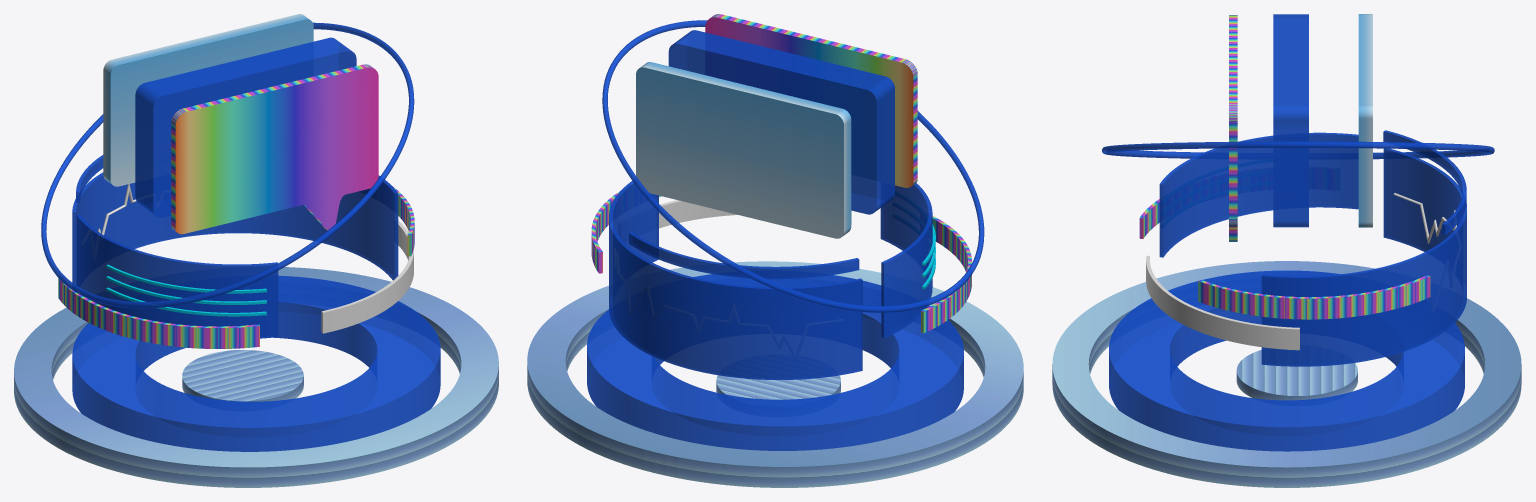
The picture shows the model from 3 angles, left to right: view 1: azimuth 30°, elevation 25°; view 2: azimuth 150°, elevation 25°; view 3: azimuth 270°, elevation 25°; orthographic projection. The views are drawn at different scales.
Visible parts, largest first — view 1: Component, Component2, Component25, Component14, Component40, Component26, Component27, Component3, Component16 (×2), Component30, Component18, Component41 (×3); view 2: Component2, Component, Component27, Component14, Component26, Component25, Component40, Component30, Component16 (×2), Component13, Component3, Component18; view 3: Component2, Component, Component14, Component40, Component26, Component16 (×2), Component3, Component30, Component18, Component27, Component25, Component13.
Part boxes in pixels (x1,y1,x2,y2): Component: (72, 275, 440, 451); Component2: (14, 267, 498, 487); Component25: (171, 64, 378, 234); Component14: (72, 172, 398, 285); Component40: (76, 214, 278, 338); Component26: (135, 37, 356, 217); Component27: (103, 14, 313, 186); Component3: (182, 350, 303, 401); Component16 (×2): (58, 186, 414, 348); Component30: (41, 22, 414, 308); Component18: (321, 220, 413, 333); Component41 (×3): (106, 264, 266, 316); Component2: (527, 261, 1023, 487); Component: (587, 274, 963, 450); Component27: (636, 62, 851, 238); Component14: (609, 181, 862, 379); Component26: (668, 30, 894, 214); Component25: (705, 14, 917, 187); Component40: (880, 183, 932, 338); Component30: (602, 20, 984, 312); Component16 (×2): (591, 191, 971, 333); Component13: (629, 232, 859, 279); Component3: (716, 375, 840, 399); Component18: (659, 200, 851, 228); Component2: (1052, 261, 1521, 487); Component: (1109, 270, 1464, 451); Component14: (1261, 148, 1466, 366); Component40: (1159, 132, 1358, 257); Component26: (1273, 14, 1308, 227); Component16 (×2): (1139, 199, 1430, 319); Component3: (1236, 350, 1357, 400); Component30: (1102, 141, 1494, 159); Component18: (1146, 255, 1299, 350); Component27: (1358, 14, 1372, 227); Component25: (1229, 15, 1237, 241); Component13: (1383, 130, 1466, 235).
Bounding box in the file's own units: 0.0432 × 0.0313 × 0.0415.
Materials: 9 (4 with a texture image).
